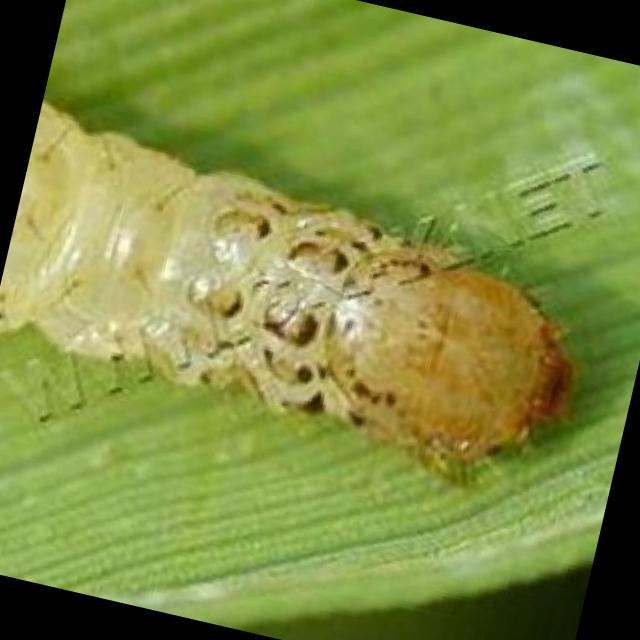leaf-folder: (0, 75, 611, 511)
